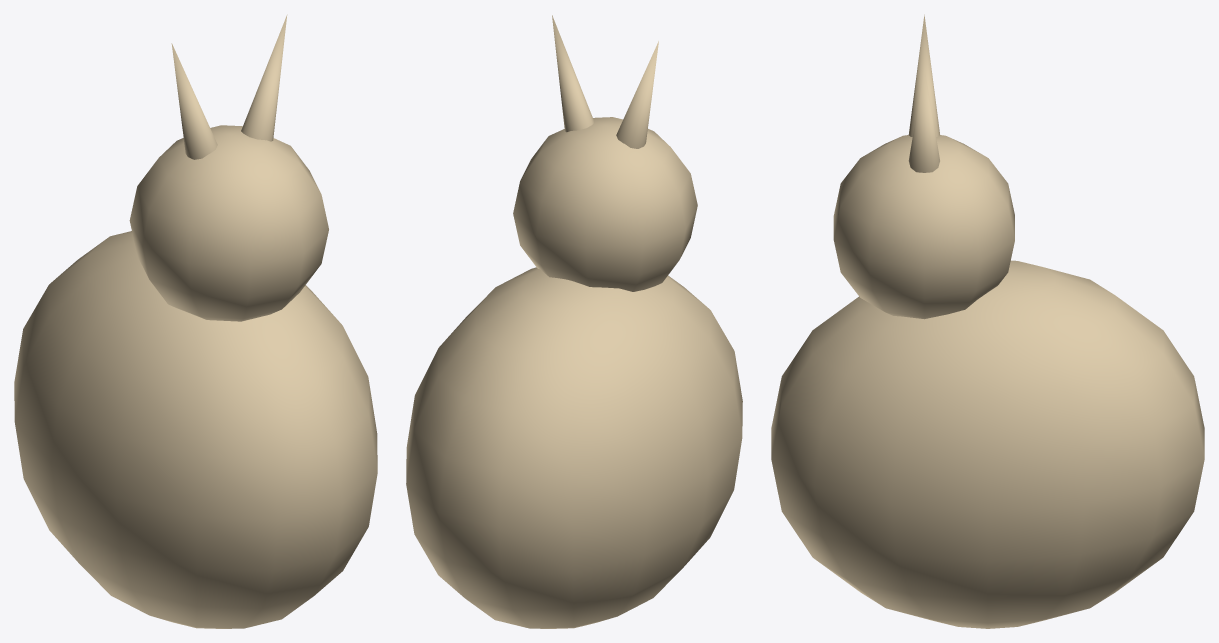
The model's file is bunny_low.obj.
3 views of the same model, side by side, from view 1: azimuth 30°, elevation 25°; view 2: azimuth 150°, elevation 25°; view 3: azimuth 270°, elevation 25° (orthographic). The views are drawn at different scales.
Parts seen in each view (by area): view 1: bunny_low; view 2: bunny_low; view 3: bunny_low.
Boxes of the visible parts, bbox=[...] form: bunny_low: bbox=[14, 14, 377, 628]; bunny_low: bbox=[406, 15, 742, 628]; bunny_low: bbox=[771, 14, 1204, 628].
Bounding box in the file's own units: 2 × 4 × 2.73.
